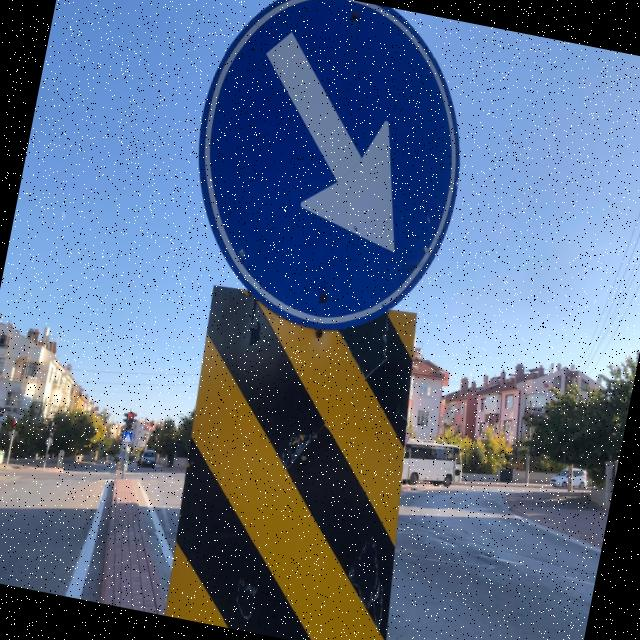compulsory_keep_right: (165, 0, 502, 353)
